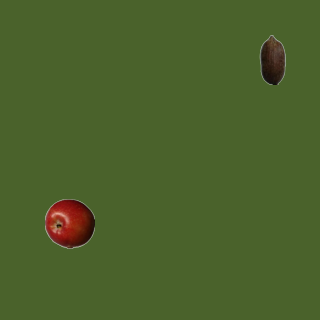Apple Braeburn: (44, 198, 94, 248)
Nut Pecan: (247, 34, 297, 84)
